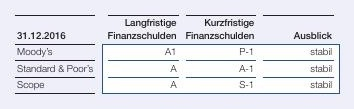table: (0, 0, 354, 109)
